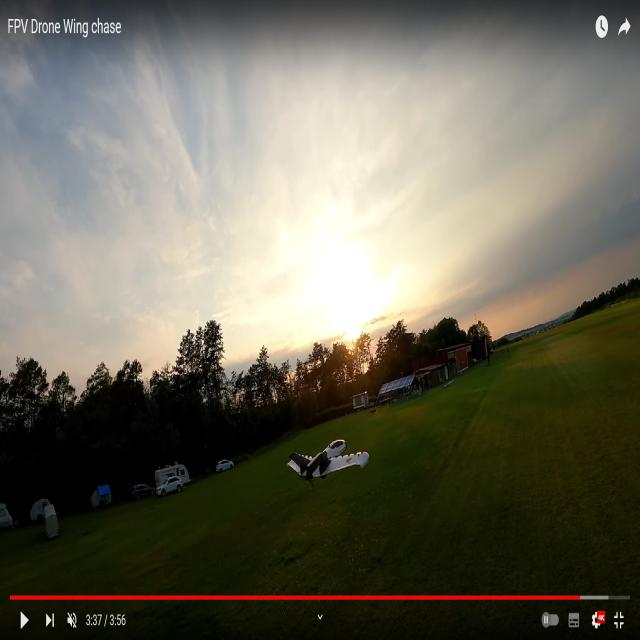iha: (312, 432, 329, 475)
